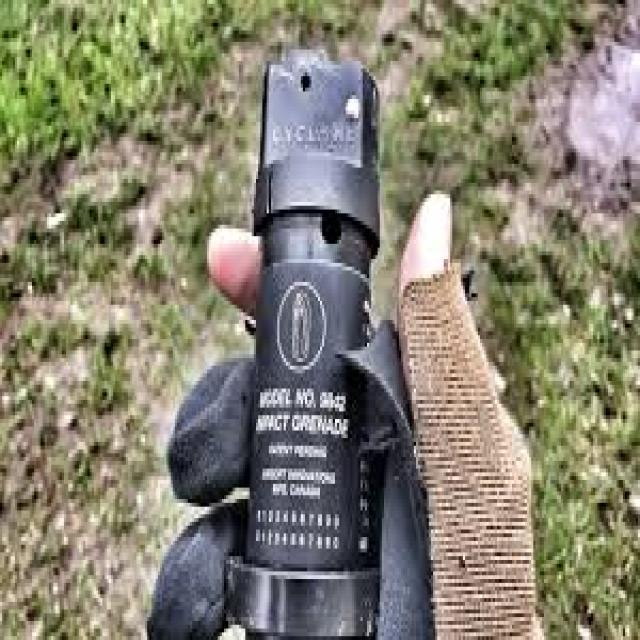grenade: (234, 50, 387, 640)
